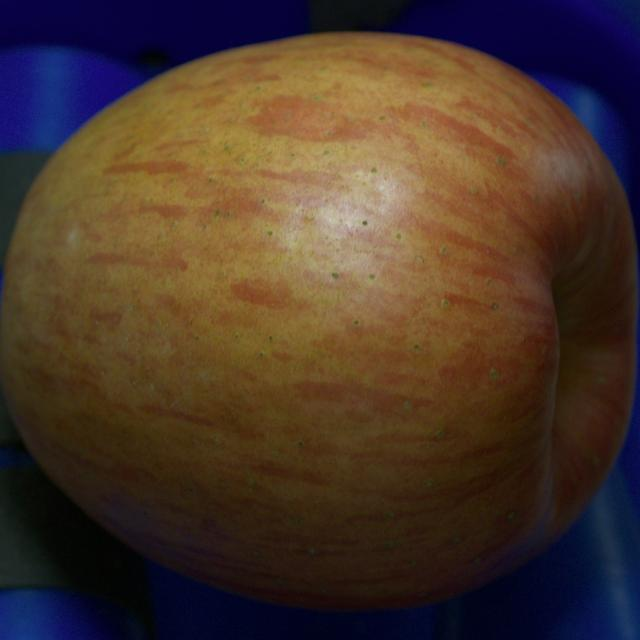apple: (0, 33, 638, 608)
